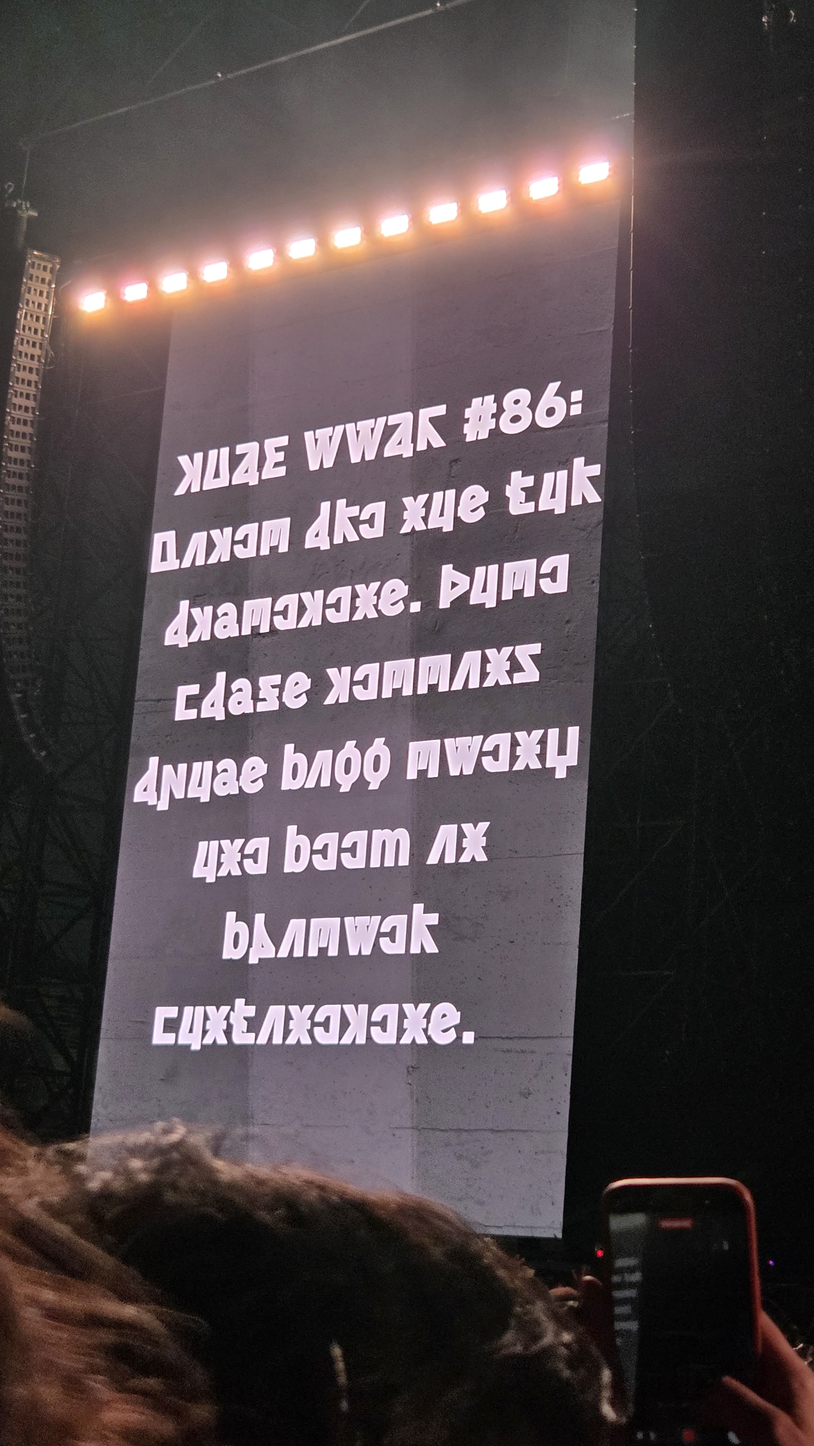6: (531, 377, 571, 432)
8: (495, 384, 537, 438)
A: (379, 408, 418, 462), (228, 438, 263, 489)
CH: (147, 526, 183, 577)
M: (170, 448, 207, 500)
O: (199, 443, 233, 494)
P: (341, 412, 391, 468), (300, 421, 349, 475)
R: (412, 400, 451, 455)
T: (257, 432, 292, 483)
TH: (435, 560, 474, 613)
a: (300, 497, 335, 555), (196, 667, 230, 725), (129, 752, 163, 810), (160, 595, 194, 652)
b: (153, 759, 192, 815)
c: (149, 1003, 182, 1047), (171, 681, 203, 724)
d: (541, 721, 584, 784)
e: (536, 550, 573, 598), (478, 729, 515, 776), (376, 911, 411, 958), (310, 1001, 345, 1048), (367, 1000, 402, 1047), (349, 659, 383, 704), (337, 827, 371, 872), (322, 582, 355, 627), (309, 829, 342, 874), (356, 498, 389, 542), (240, 834, 273, 878), (270, 590, 302, 633), (230, 520, 262, 562)
f: (502, 467, 539, 519), (225, 994, 260, 1048)
g: (509, 639, 545, 688)
gh: (253, 671, 285, 715)
h: (244, 909, 280, 968)
i: (422, 821, 461, 868), (447, 647, 485, 694), (273, 915, 310, 961), (252, 1002, 289, 1047), (301, 746, 336, 792), (177, 528, 210, 572)
k: (366, 824, 413, 871)
l: (358, 733, 395, 795), (330, 736, 366, 797)
m: (336, 1001, 372, 1048), (320, 663, 354, 708), (294, 586, 327, 631), (184, 602, 216, 646), (204, 524, 236, 567)
n: (479, 643, 518, 691), (509, 726, 548, 774), (455, 818, 494, 866), (396, 1000, 434, 1047), (396, 490, 433, 537), (281, 1001, 318, 1048), (348, 578, 384, 624), (199, 1002, 234, 1047), (214, 835, 248, 880)
o: (534, 466, 572, 518), (466, 560, 502, 612), (424, 485, 459, 536), (174, 1002, 208, 1054), (189, 837, 222, 887), (184, 757, 217, 806)
p: (440, 731, 487, 779), (341, 912, 385, 959)
r: (566, 452, 606, 511), (405, 898, 443, 958), (329, 494, 364, 548)
s: (498, 555, 541, 604), (414, 650, 455, 698), (378, 655, 419, 702), (403, 736, 444, 783), (304, 914, 344, 960), (256, 514, 294, 559), (238, 594, 276, 639)
t: (424, 999, 464, 1048), (454, 481, 492, 526), (375, 575, 412, 619), (279, 668, 314, 712), (236, 753, 271, 797)
u: (210, 755, 242, 799), (225, 675, 257, 718), (211, 599, 242, 642)
w: (279, 821, 315, 877), (218, 907, 253, 963), (277, 739, 312, 794)
